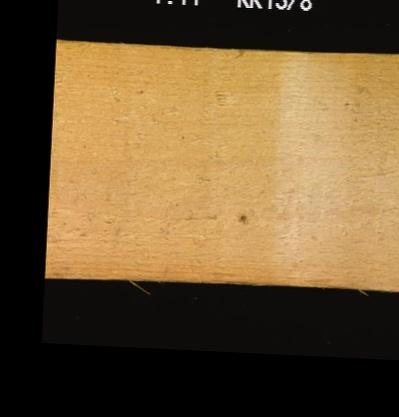small_knot: (236, 209, 248, 224)
